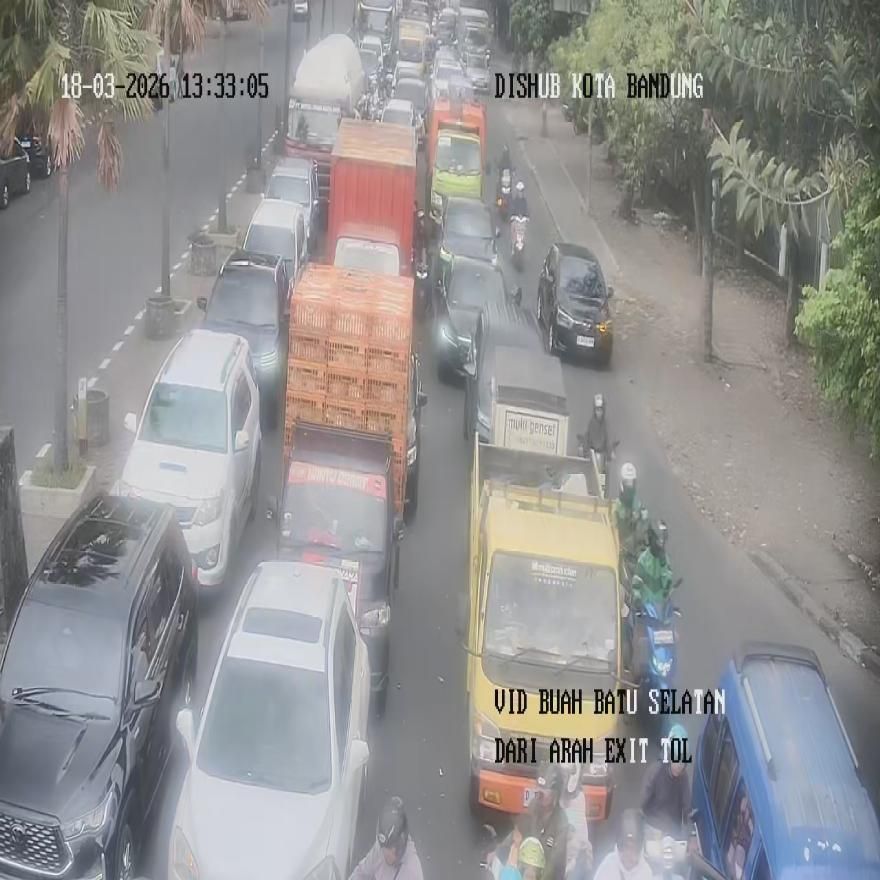Mobil: (0, 495, 198, 876), (267, 264, 426, 711), (167, 558, 371, 878), (686, 642, 880, 877), (113, 329, 261, 585), (196, 248, 291, 424), (536, 242, 614, 365), (263, 155, 319, 259)
Motor: (628, 592, 680, 722), (643, 821, 687, 880), (509, 215, 526, 268), (496, 166, 512, 218)
Truk ringan: (458, 346, 631, 821)
